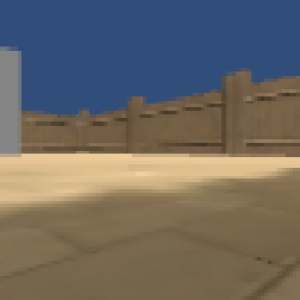wall: (1, 47, 22, 159)
